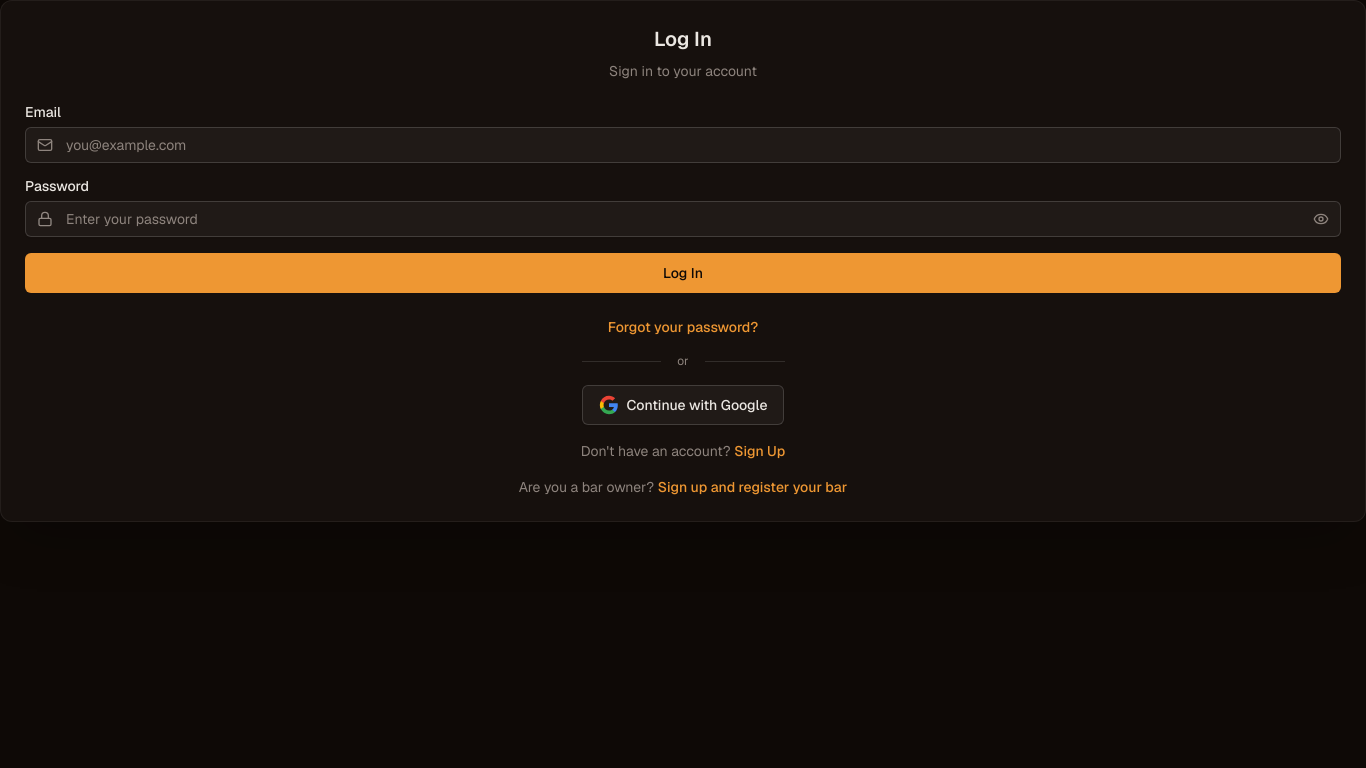
Test case: LoginForm › 로그인 실패 — 기타 API 에러 › should display server message in auth-error-message when login returns other AxiosError with message
Type "user@example.com" into the field with test id "login-email-input". click: x=683, y=145
box: top-left (25, 127), bottom-right (1341, 163)
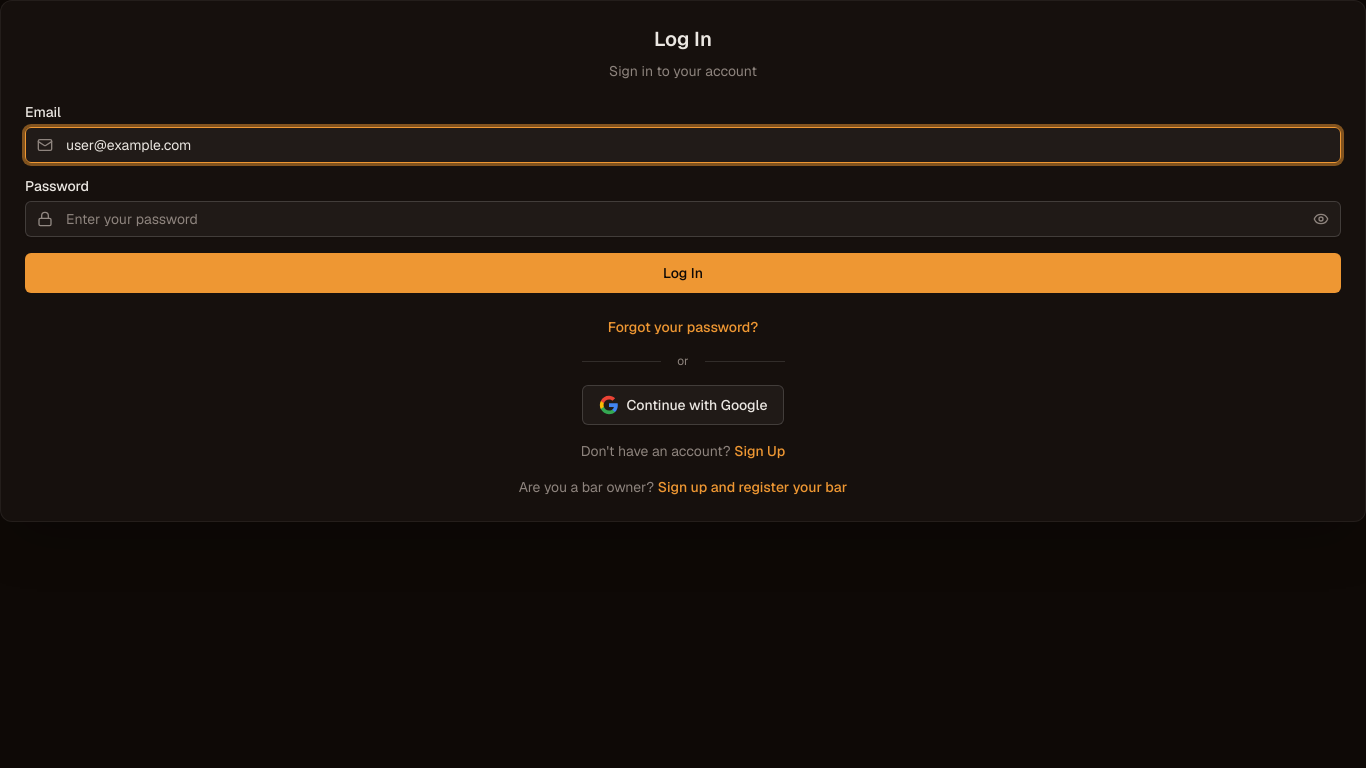
Type "password123" into the password field with test id "login-password-input". click: x=683, y=219
box: top-left (25, 201), bottom-right (1341, 237)
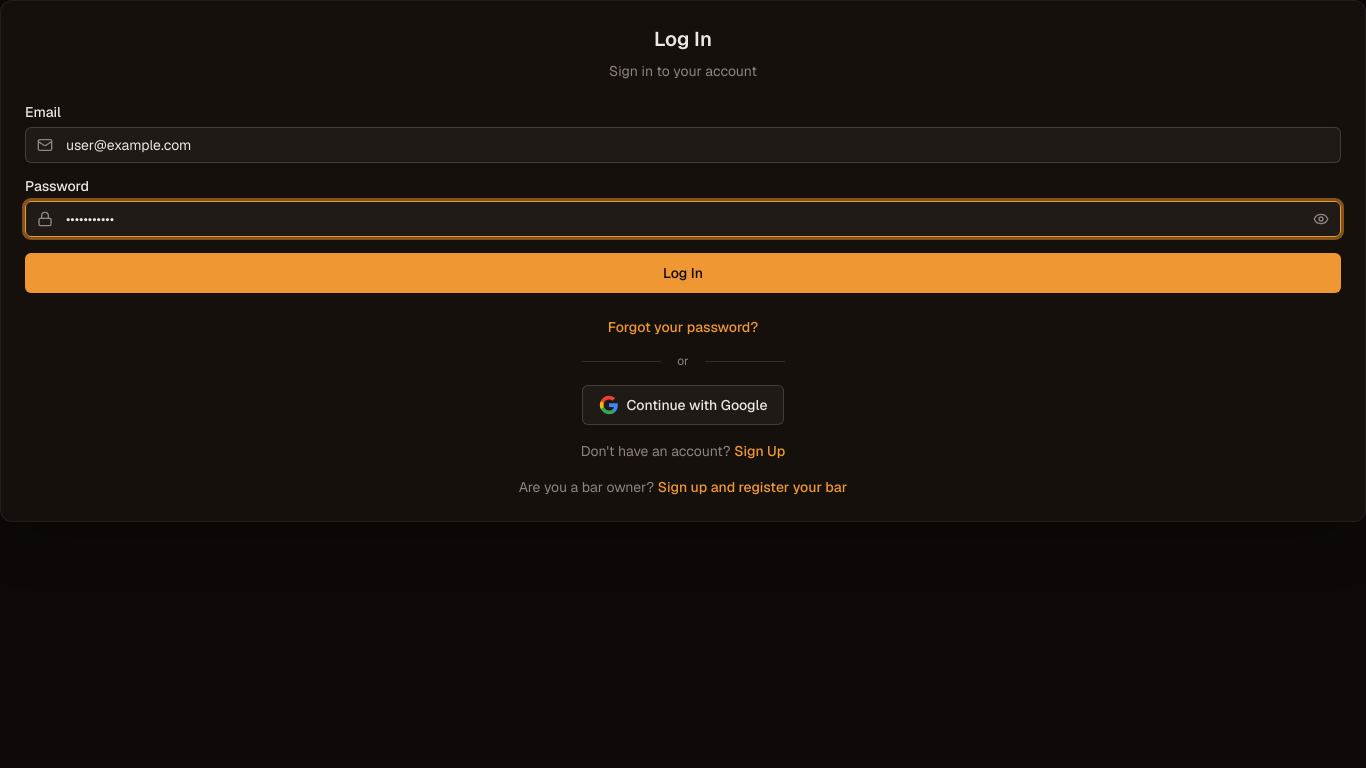
Click the button with test id "login-submit-button". click: x=683, y=273
box: top-left (25, 253), bottom-right (1341, 293)
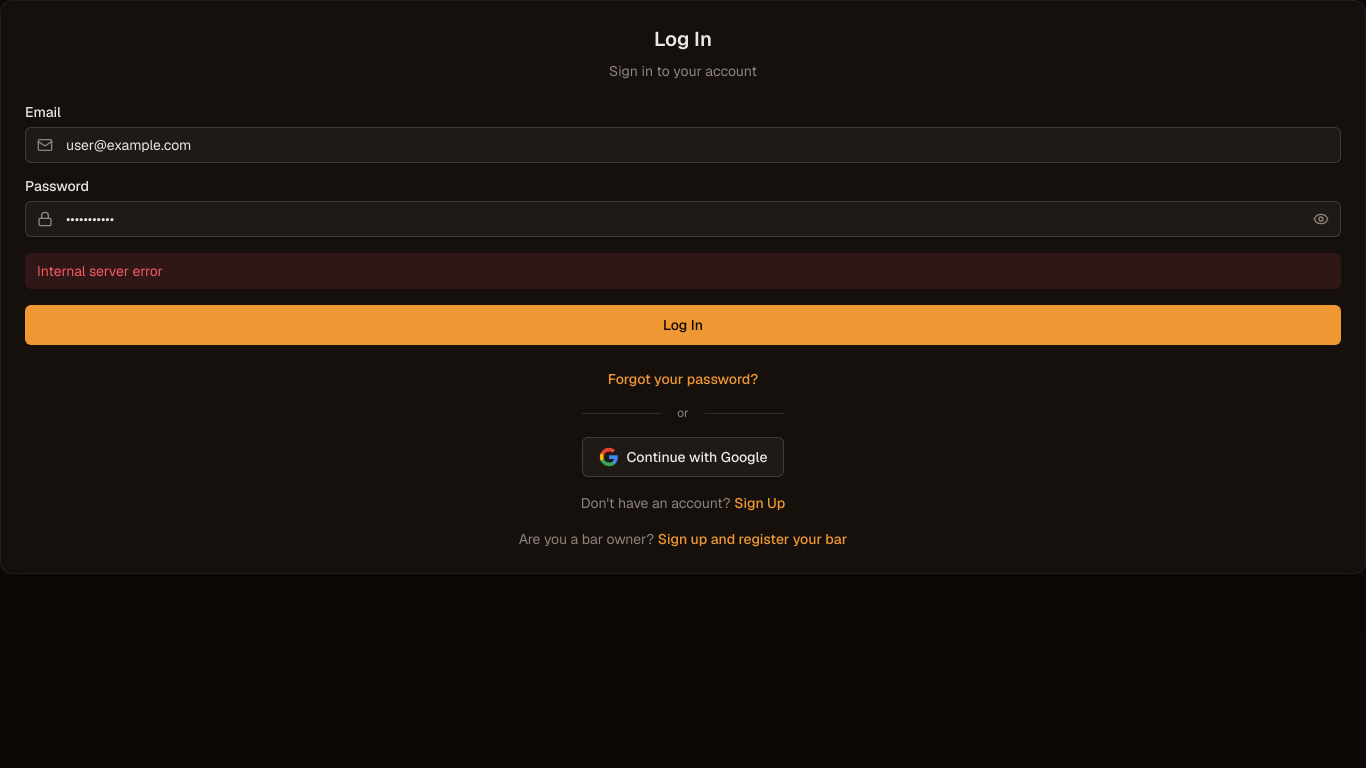
Expected: the message with test id "auth-error-message" reads "Internal server error", top-left (37, 262), bottom-right (163, 280)
